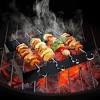sate: (13, 26, 96, 76)
